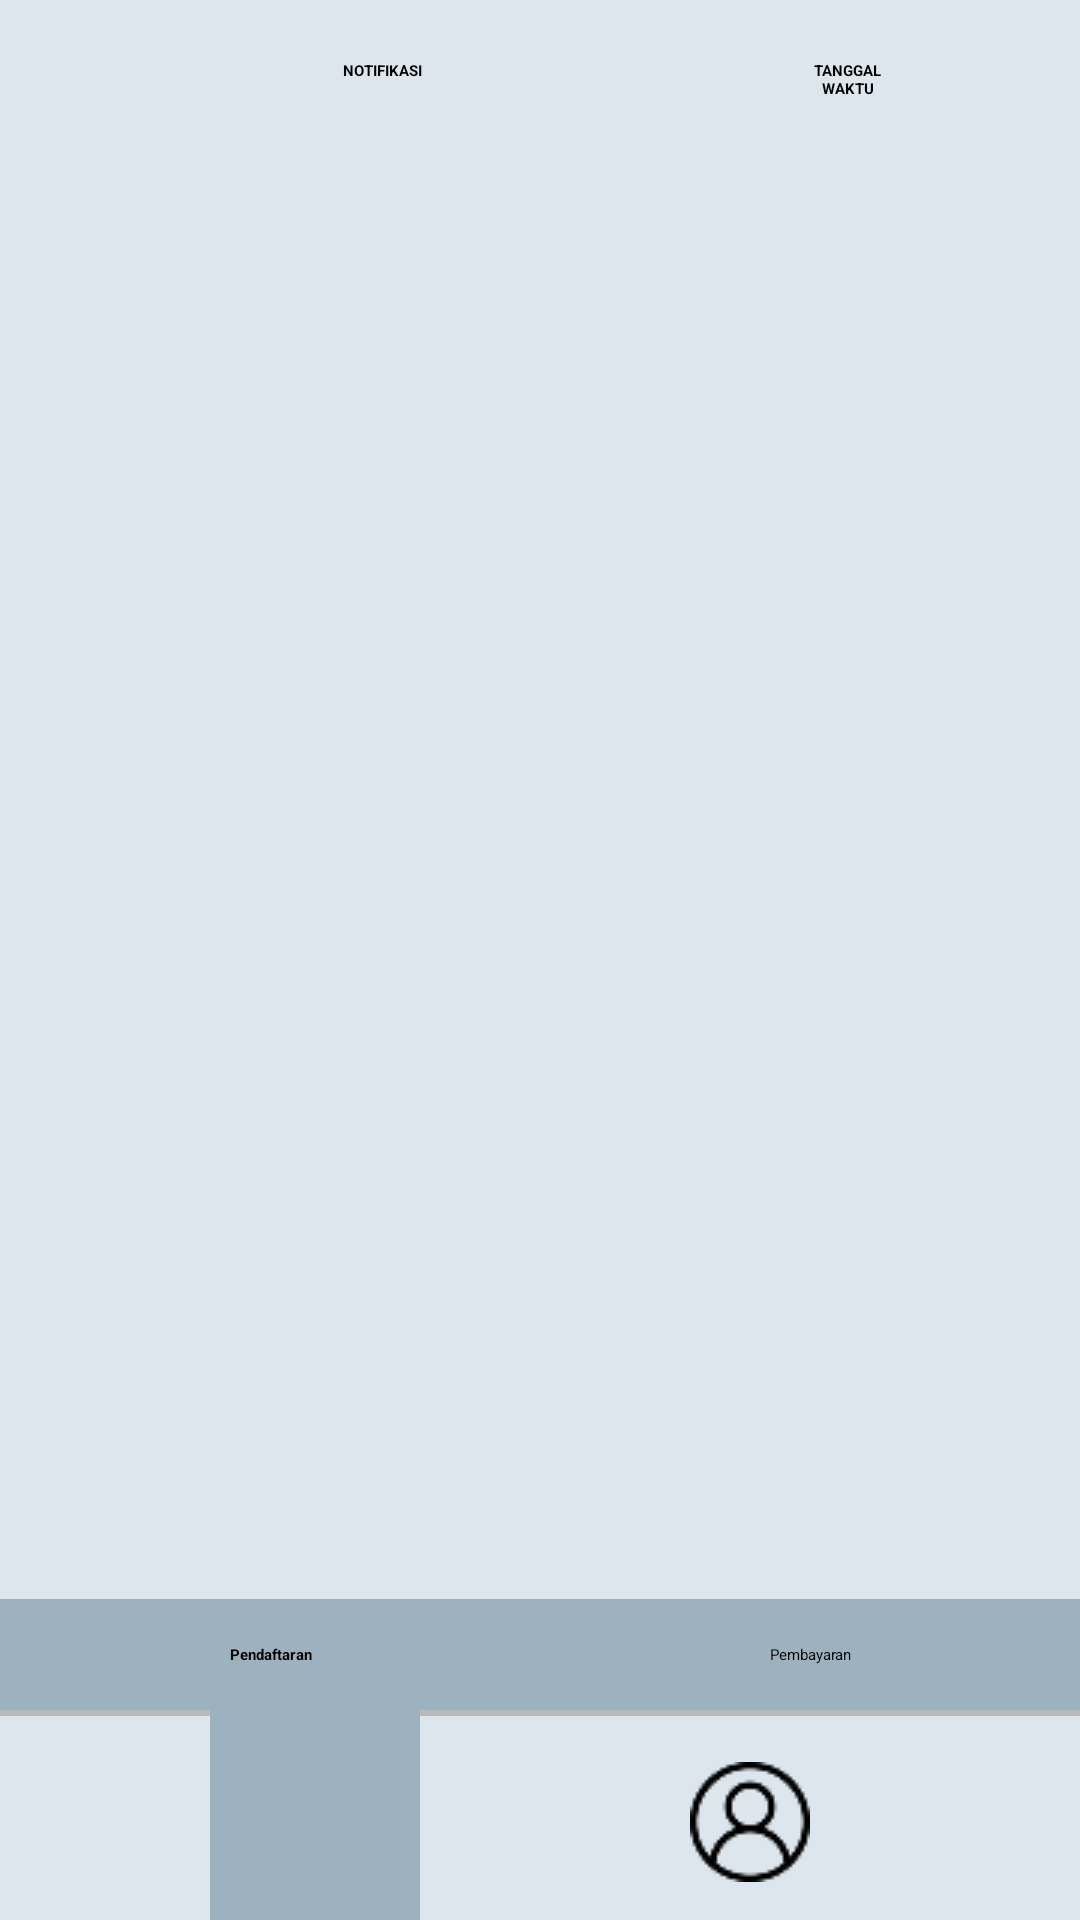

Locate icon controls on the screen. Image size 1080 x 1920, boxes as (x1, y1, x2, y2).
profile: (690, 1762, 810, 1882)
